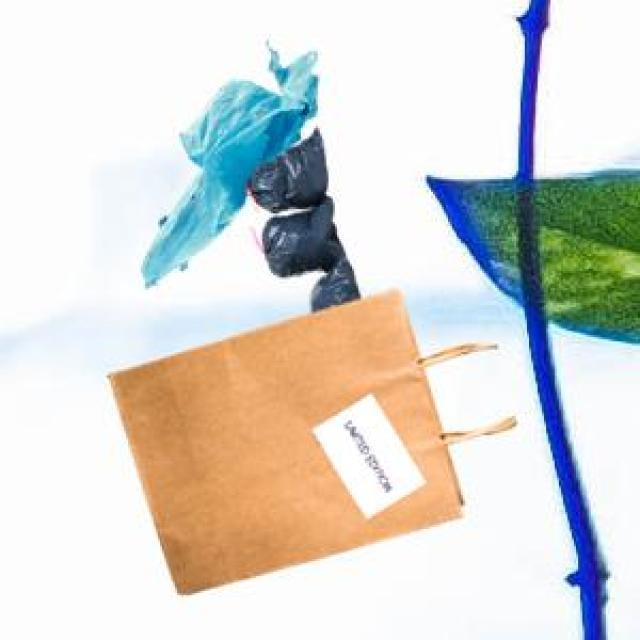miscellaneous trash: (243, 124, 356, 309)
paper: (105, 286, 512, 591)
